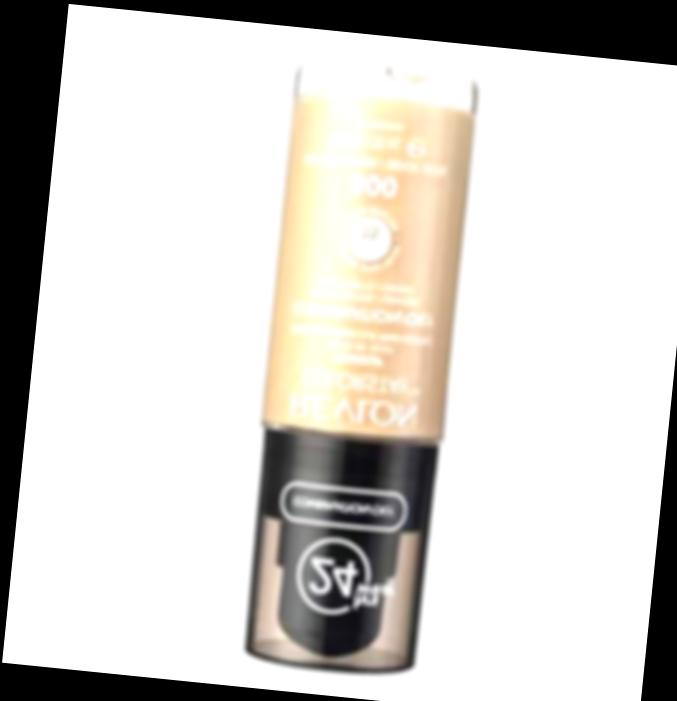cosmetic: (235, 63, 483, 679)
